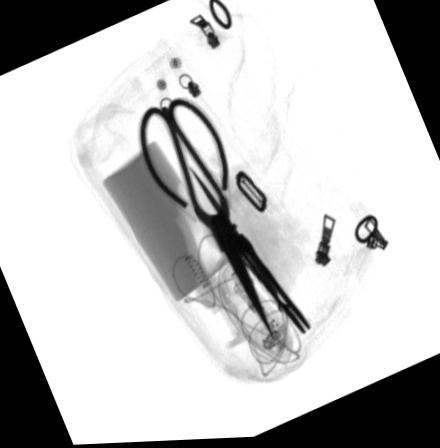Knife: (188, 168, 312, 340)
Scissors: (136, 98, 271, 341)
